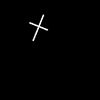single_crochet: (30, 15, 47, 40)
